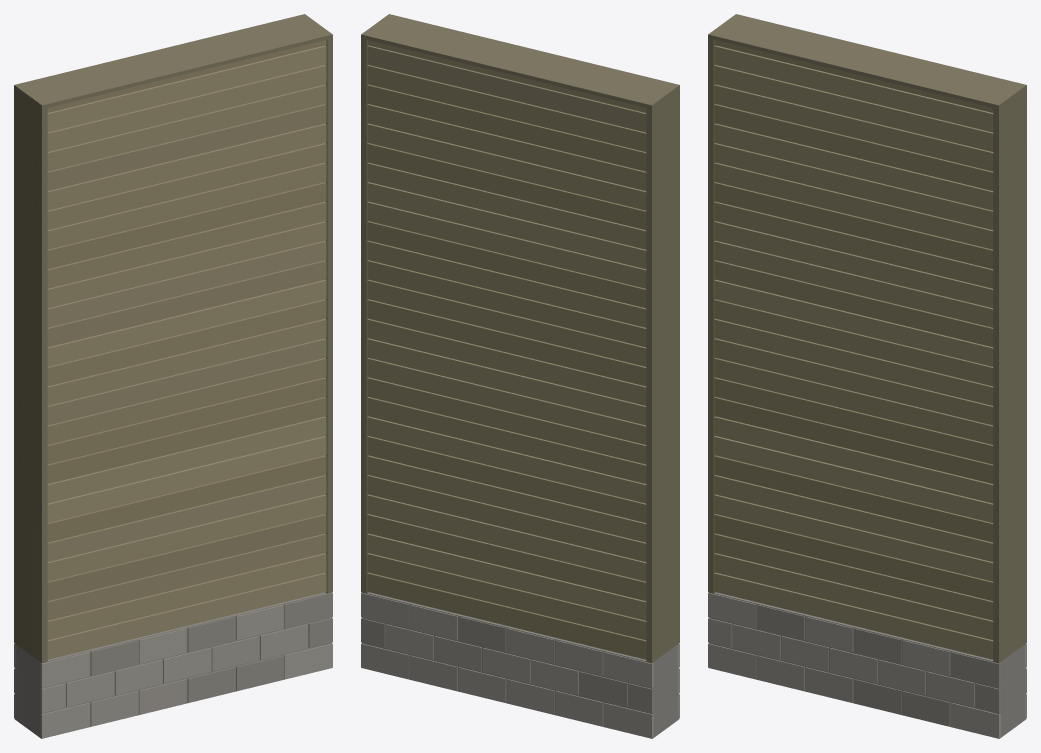
File: range_backstop.glb
The picture shows the model from 3 angles, left to right: view 1: azimuth 30°, elevation 25°; view 2: azimuth 150°, elevation 25°; view 3: azimuth 330°, elevation 25°; orthographic projection.
Parts seen in each view (by area): view 1: RangeBackstop; view 2: RangeBackstop; view 3: RangeBackstop.
Boxes of the visible parts, x1,y1,x2,y2 form: RangeBackstop: (14,14,332,738); RangeBackstop: (361,14,679,738); RangeBackstop: (708,14,1026,738).
Size of the model in its own units: 2.4 by 5 by 0.4.
